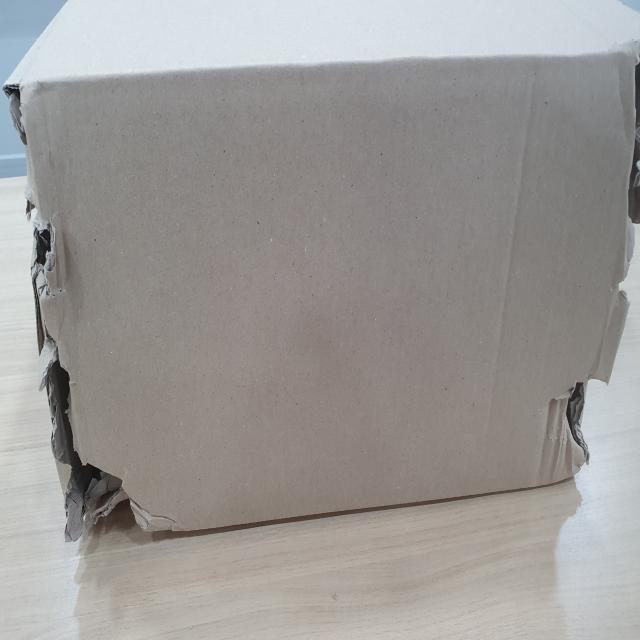hole: (43, 321, 149, 543), (558, 370, 590, 464), (33, 210, 59, 297)
